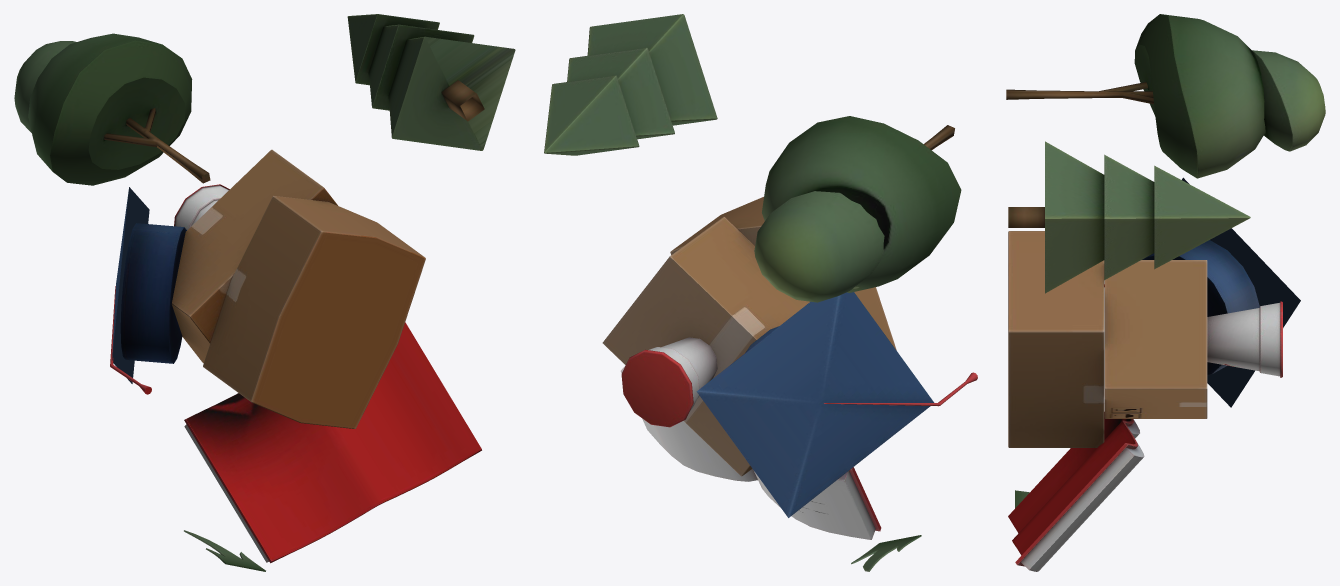
Rendered from children.glb.
3 views of the same model, side by side, from view 1: azimuth 30°, elevation 25°; view 2: azimuth 150°, elevation 25°; view 3: azimuth 270°, elevation 25° (orthographic). The views are drawn at different scales.
Visible parts, largest first — view 1: AiderEnfants, Arbres_AiderEnfant; view 2: AiderEnfants, Arbres_AiderEnfant; view 3: AiderEnfants, Arbres_AiderEnfant.
Part boxes in pixels (x1,y1,x2,y2): AiderEnfants: (110, 149, 481, 563); Arbres_AiderEnfant: (14, 14, 515, 571); AiderEnfants: (602, 197, 977, 539); Arbres_AiderEnfant: (544, 14, 961, 571); AiderEnfants: (1008, 177, 1300, 571); Arbres_AiderEnfant: (1006, 14, 1325, 508).
Size of the model in its own units: 0.904 by 1.02 by 0.625.
2 materials, 2 textured.
